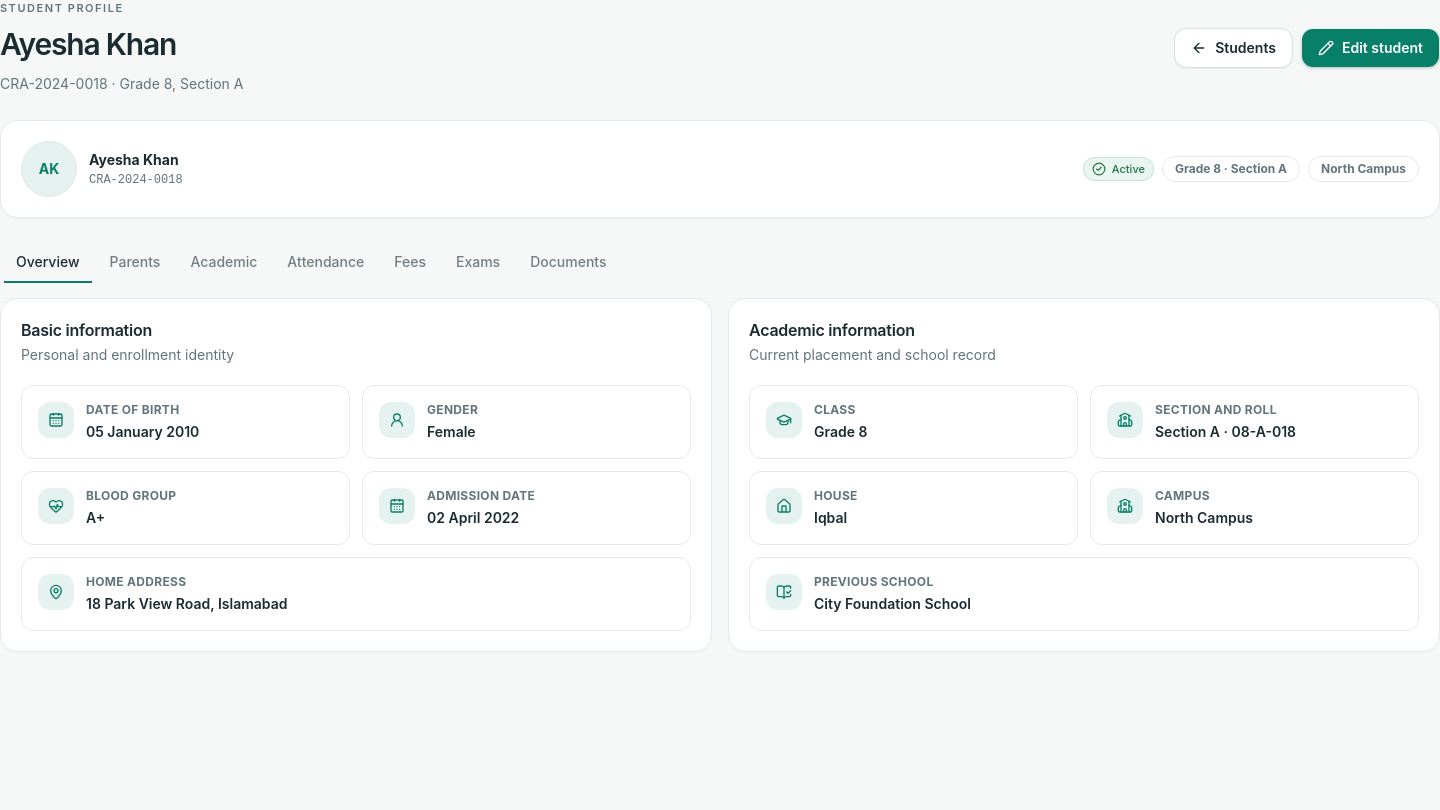
Test: StudentProfile › loads a reusable profile and exposes every required tab
Check: the heading "Ayesha Khan" is shown, box [0,26,176,62]
Check: the tab "Overview" is shown, box [3,246,92,279]
Click the tab "Parents". click: {"x": 135, "y": 262}
box: [96,246,173,279]
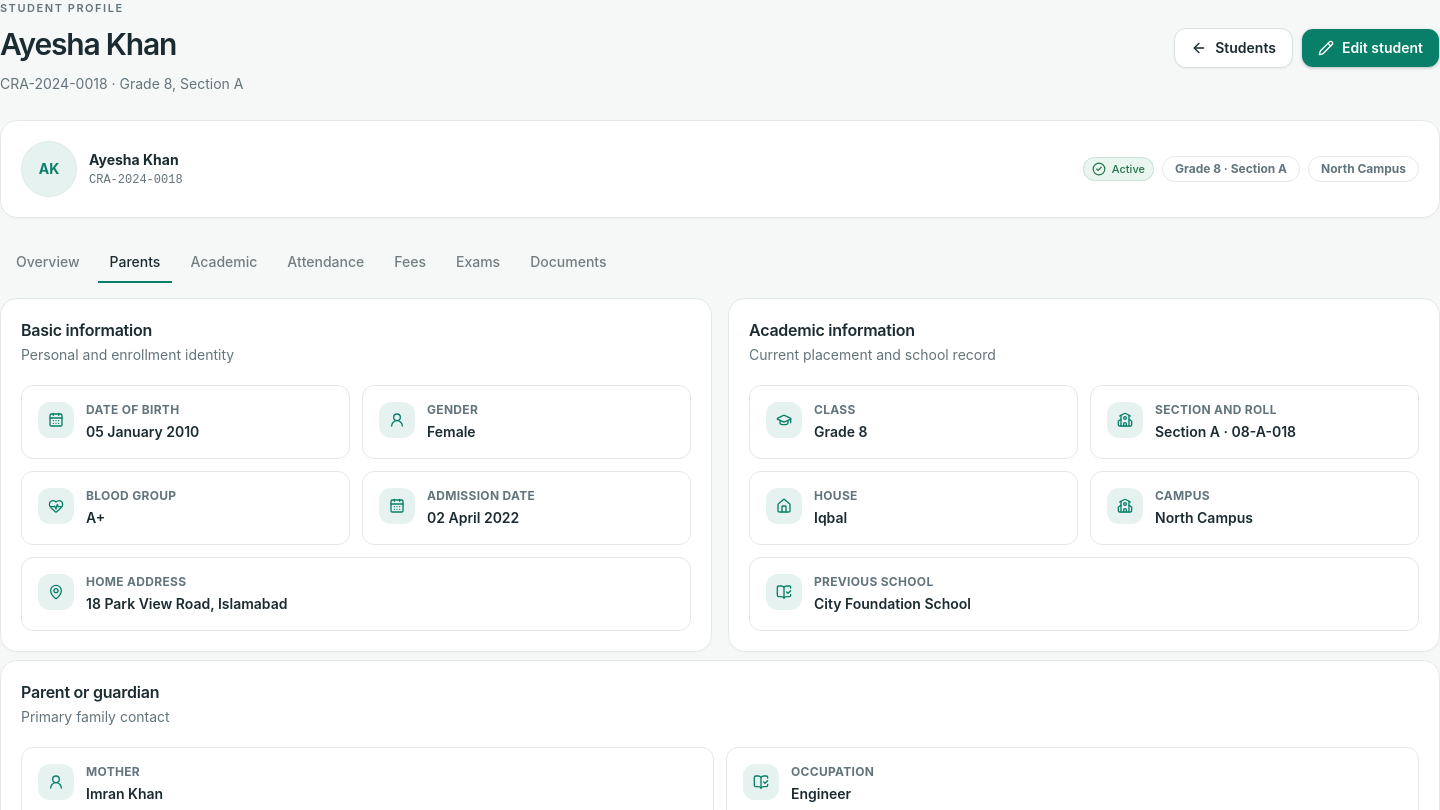
Check: the text "Primary family contact" is shown, box [21,708,170,726]
Click the tab "Exams". click: {"x": 478, "y": 262}
box: [443,246,513,279]
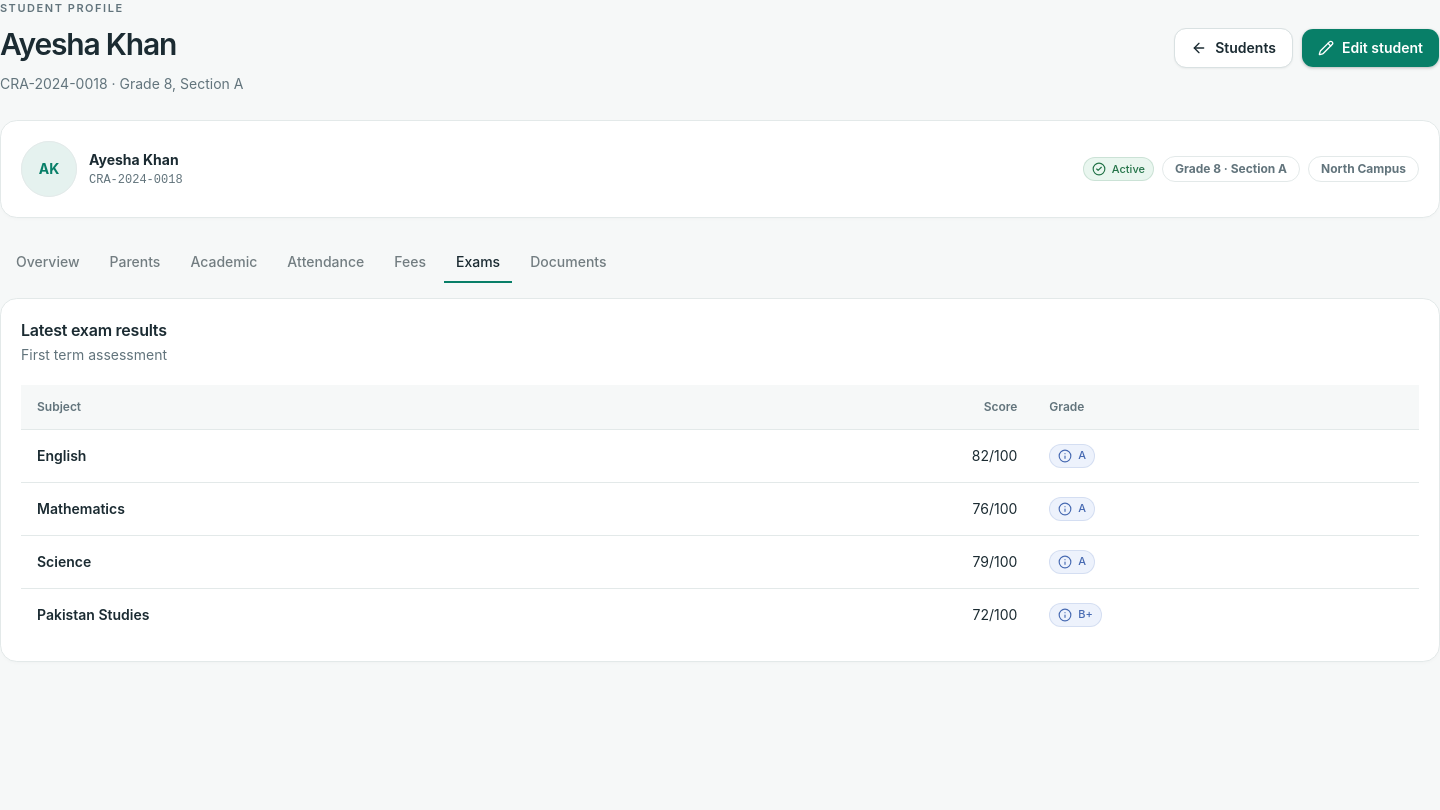
Check: the text "Mathematics" is shown, box [21,482,680,536]
